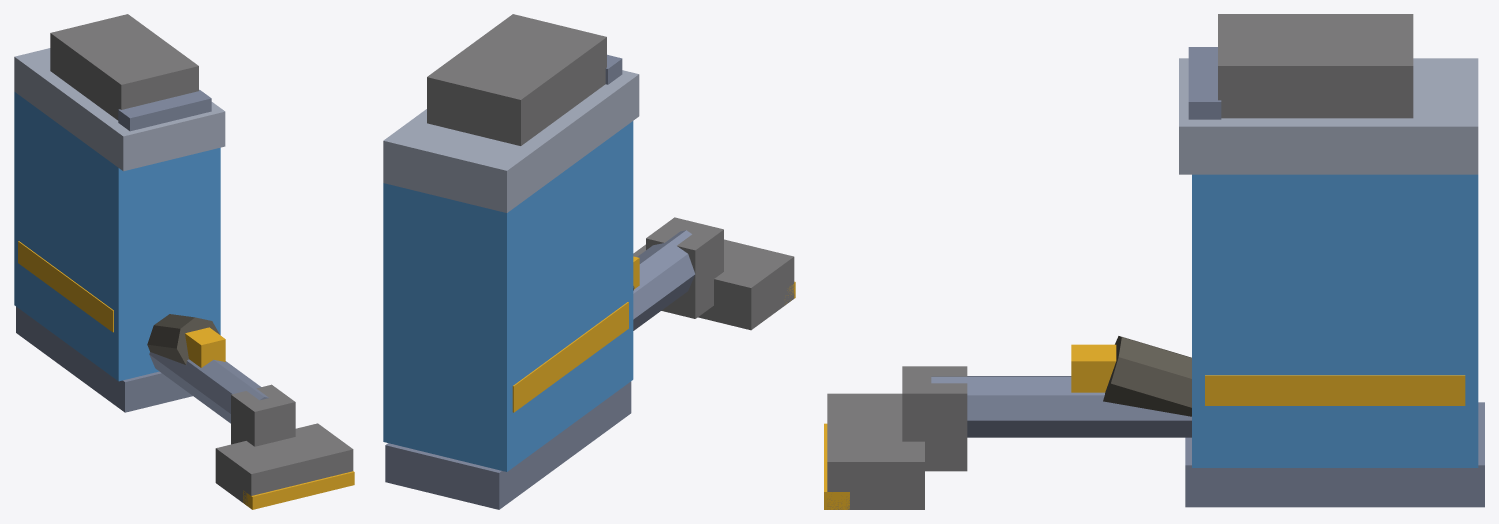
Rendered from vacuum.glb.
The picture shows the model from 3 angles, left to right: view 1: azimuth 30°, elevation 25°; view 2: azimuth 150°, elevation 25°; view 3: azimuth 270°, elevation 25°; orthographic projection. The views are drawn at different scales.
Visible parts, largest first — view 1: vacuum; view 2: vacuum; view 3: vacuum.
Part boxes in pixels (x1=…): vacuum: x1=14, y1=14, x2=354, y2=509; vacuum: x1=383, y1=14, x2=795, y2=509; vacuum: x1=824, y1=14, x2=1484, y2=509.
Size of the model in its own units: 0.25 by 0.7275 by 1.
